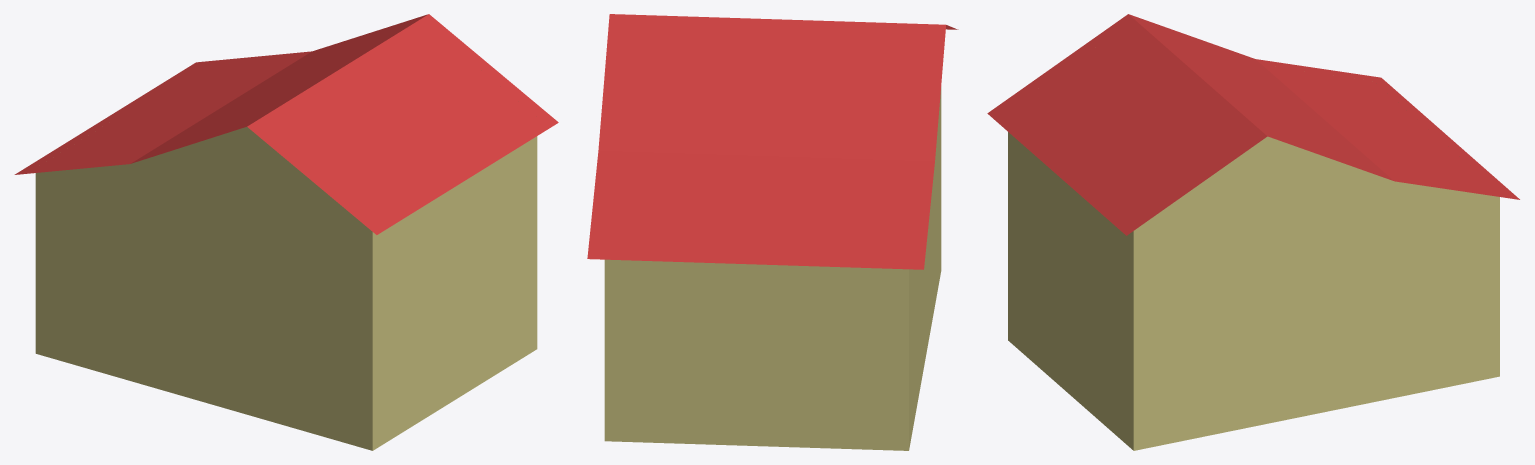
The picture shows the model from 3 angles, left to right: view 1: azimuth 30°, elevation 25°; view 2: azimuth 150°, elevation 25°; view 3: azimuth 270°, elevation 25°; orthographic projection. The views are drawn at different scales.
Size of the model in its own units: 15.51 by 17.27 by 10.52.
